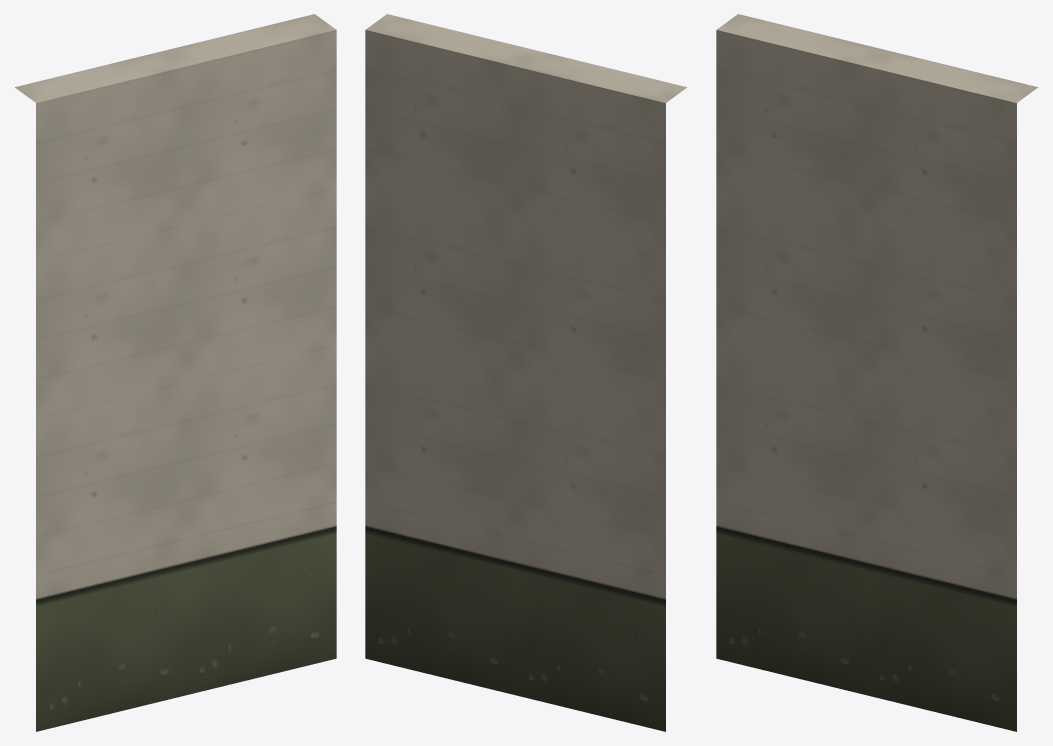
File: wall_bunker.glb
3 renders of one model, left to right at view 1: azimuth 30°, elevation 25°; view 2: azimuth 150°, elevation 25°; view 3: azimuth 330°, elevation 25°, orthographic.
Visible parts, largest first — view 1: wall_bunker; view 2: wall_bunker; view 3: wall_bunker.
Part boxes in pixels (left/top/right/bottom): wall_bunker: left=15, top=14, right=336, bottom=731; wall_bunker: left=365, top=14, right=686, bottom=731; wall_bunker: left=716, top=14, right=1037, bottom=731.
Bounding box in the file's own units: 2 × 4 × 0.25.
1 material, 1 textured.
